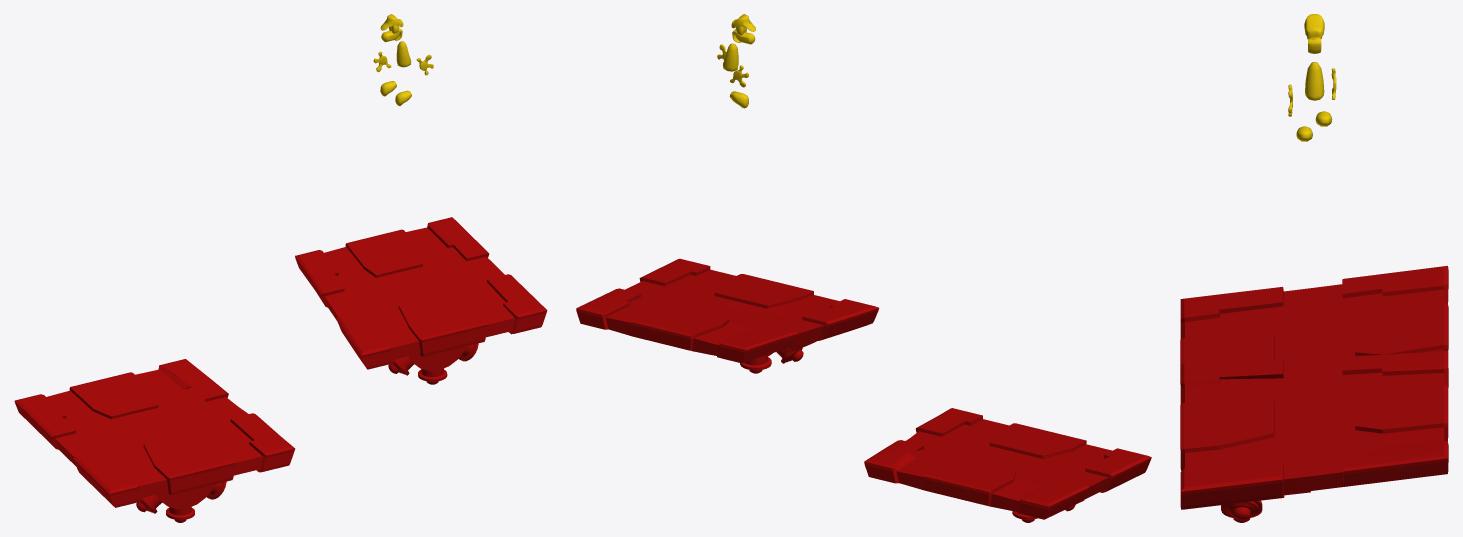
File: RaymanPlatforms.fbx
The picture shows the model from 3 angles, left to right: view 1: azimuth 30°, elevation 25°; view 2: azimuth 150°, elevation 25°; view 3: azimuth 270°, elevation 25°; orthographic projection. The views are drawn at different scales.
Parts seen in each view (by area): view 1: Platforms2, Platforms1, Rayman; view 2: Platforms1, Platforms2, Rayman; view 3: Platforms1, Platforms2, Rayman.
Boxes of the visible parts, x1=… form: Platforms2: x1=14, y1=359, x2=295, y2=522; Platforms1: x1=295, y1=217, x2=547, y2=384; Rayman: x1=373, y1=14, x2=433, y2=106; Platforms1: x1=576, y1=258, x2=879, y2=373; Platforms2: x1=864, y1=408, x2=1151, y2=522; Rayman: x1=717, y1=14, x2=755, y2=108; Platforms1: x1=1180, y1=351, x2=1448, y2=522; Platforms2: x1=1180, y1=265, x2=1448, y2=387; Rayman: x1=1288, y1=14, x2=1336, y2=141.
Size of the model in its own units: 2.87 by 2.69 by 1.08.
